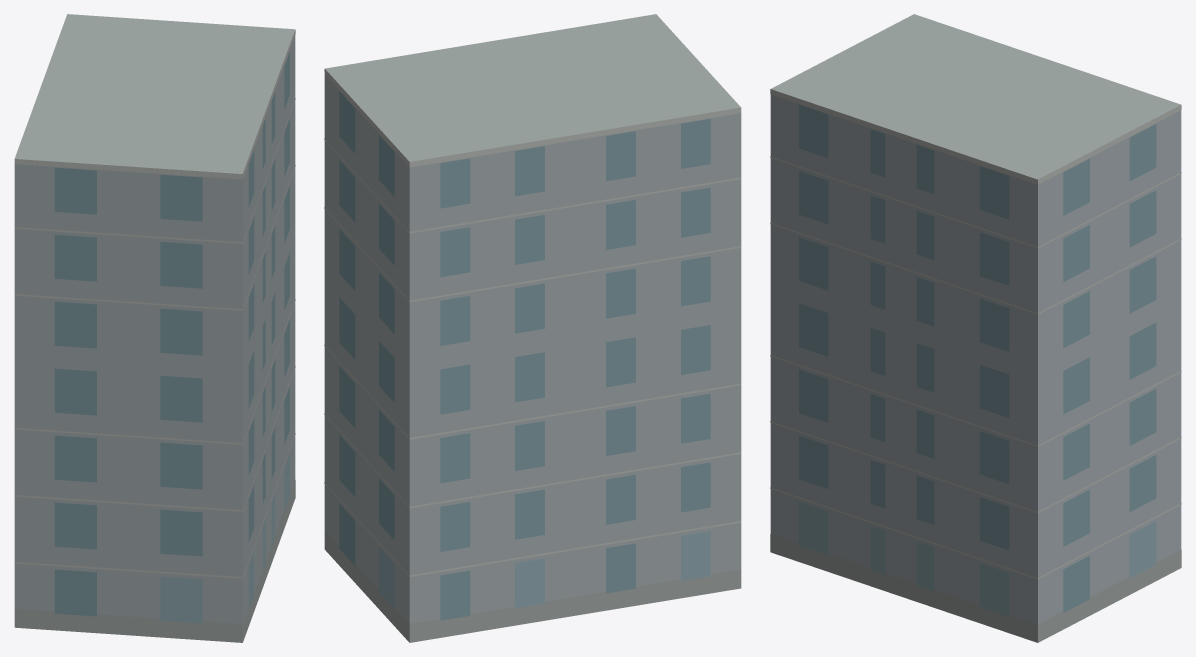
The model's file is survey-upis-32845976.glb.
3 renders of one model, left to right at view 1: azimuth 30°, elevation 25°; view 2: azimuth 150°, elevation 25°; view 3: azimuth 270°, elevation 25°, orthographic. The views are drawn at different scales.
Parts seen in each view (by area): view 1: survey-upis-32845976.tmp; view 2: survey-upis-32845976.tmp; view 3: survey-upis-32845976.tmp.
Boxes of the visible parts, bbox=[...] form: survey-upis-32845976.tmp: bbox=[14, 14, 295, 642]; survey-upis-32845976.tmp: bbox=[324, 14, 741, 642]; survey-upis-32845976.tmp: bbox=[770, 14, 1181, 642].
Bounding box in the file's own units: 16.39 × 21.35 × 17.18.
